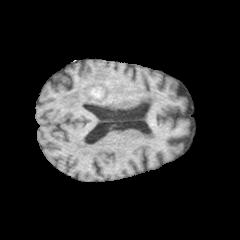glioma: (62, 65, 120, 142)
